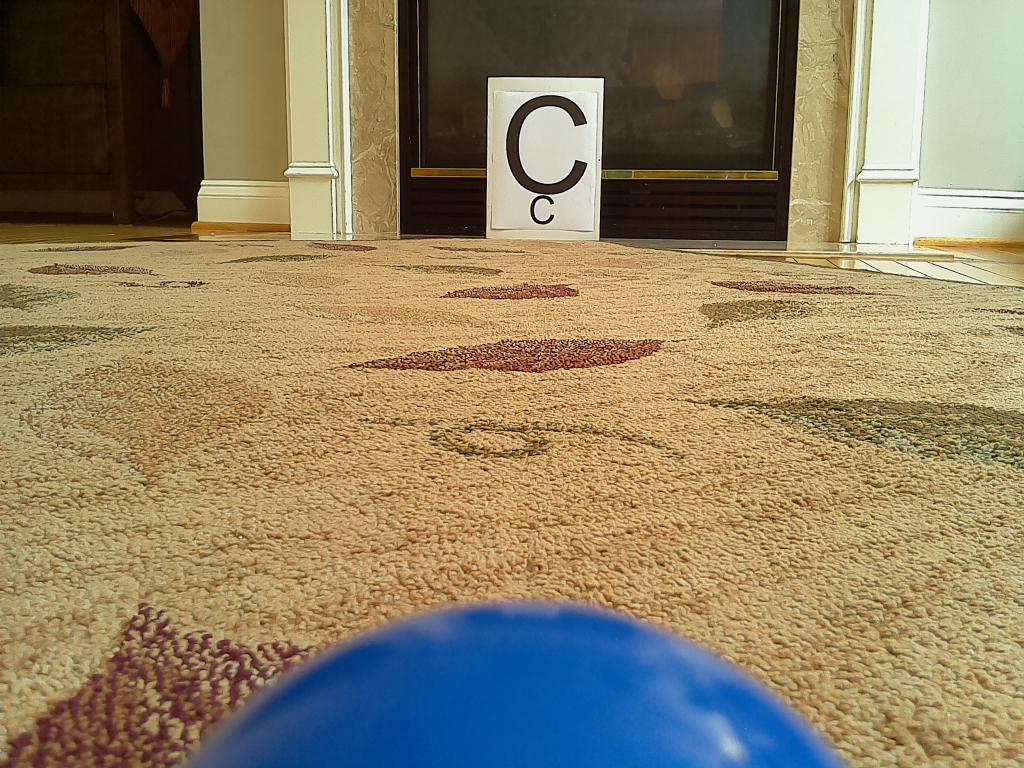letter: (504, 96, 589, 193)
